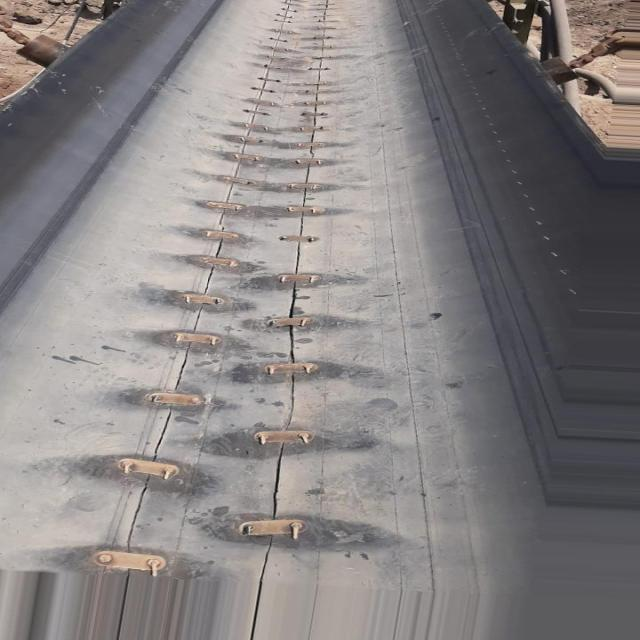Roller: (12, 33, 81, 68), (520, 50, 584, 79)
patch work: (44, 0, 390, 592)
